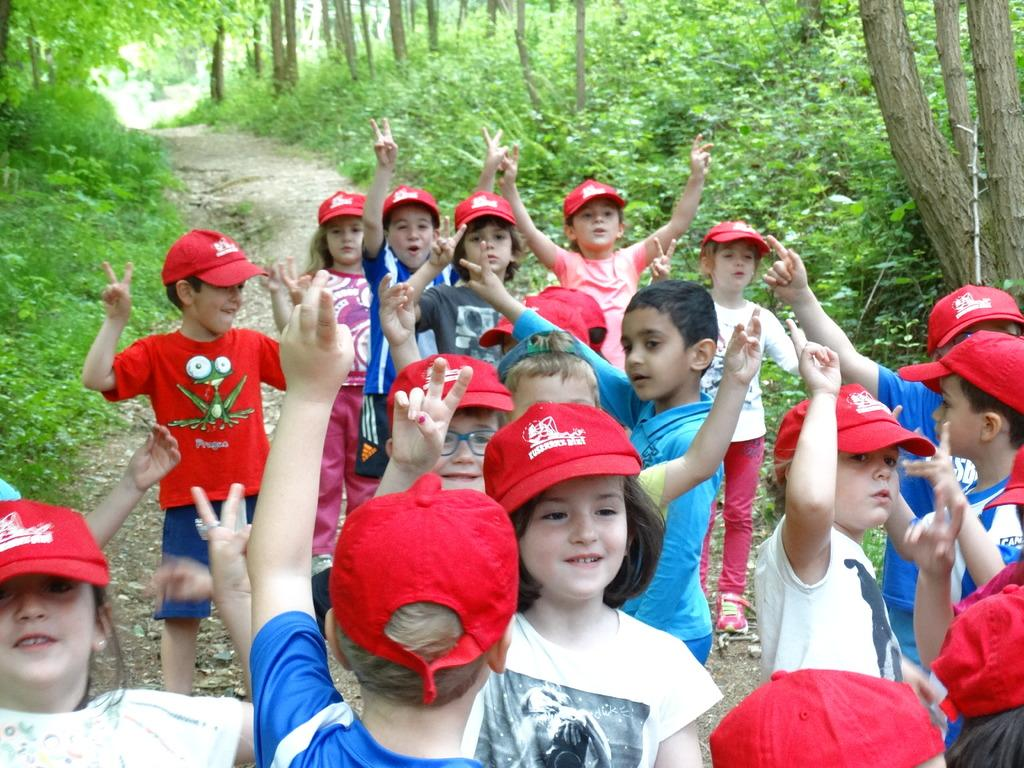Hat: (326, 469, 520, 705), (698, 664, 946, 766), (484, 401, 648, 514), (774, 384, 934, 484), (926, 582, 1022, 712), (385, 347, 508, 431), (0, 498, 112, 584), (902, 330, 1023, 407), (924, 278, 1024, 354), (163, 228, 267, 290), (480, 292, 588, 350), (538, 283, 606, 344), (980, 441, 1023, 513), (564, 178, 626, 220), (454, 190, 516, 231), (314, 190, 368, 227), (384, 182, 438, 219)
